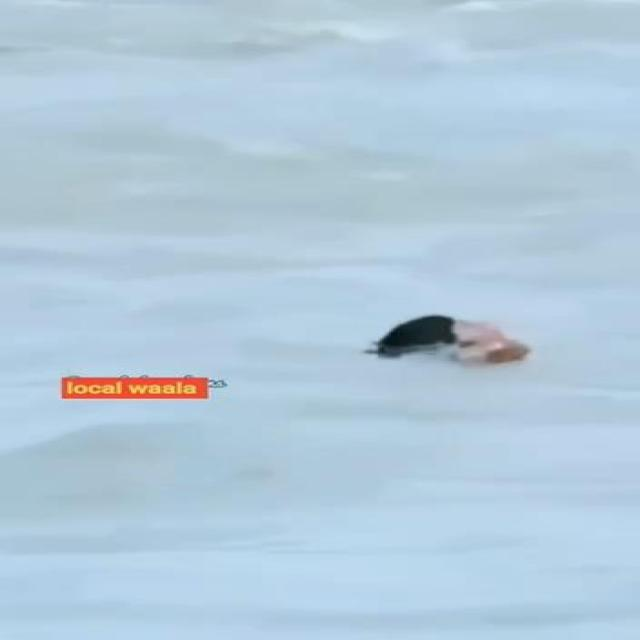Out of Water: (357, 305, 541, 369)
